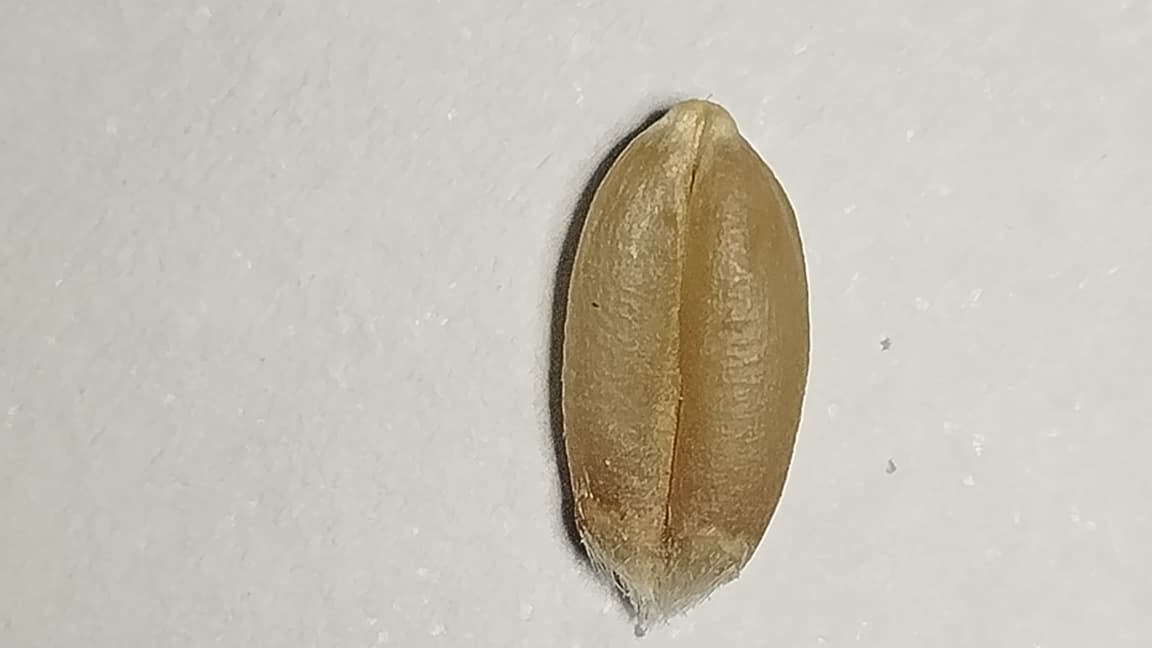healthy: (564, 106, 805, 566)
